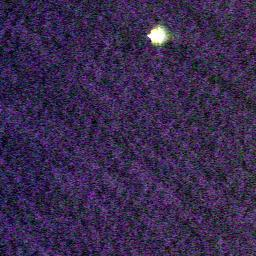Ship: (147, 26, 167, 43)
